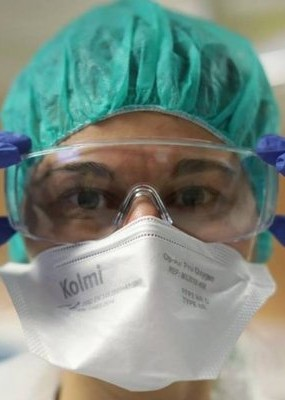with_mask: (2, 33, 285, 386)
